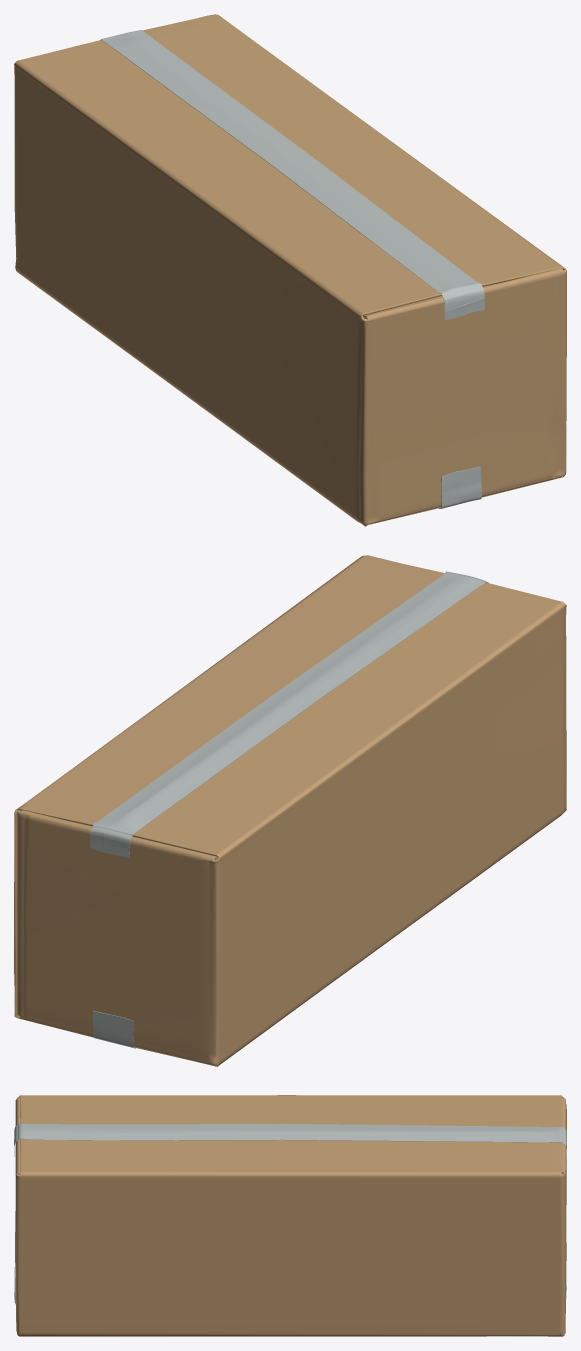
File: box_long_a05.glb
3 views of the same model, one above another, from view 1: azimuth 30°, elevation 25°; view 2: azimuth 150°, elevation 25°; view 3: azimuth 270°, elevation 25° (orthographic). The views are drawn at different scales.
Size of the model in its own units: 0.1571 by 0.1576 by 0.4634.
